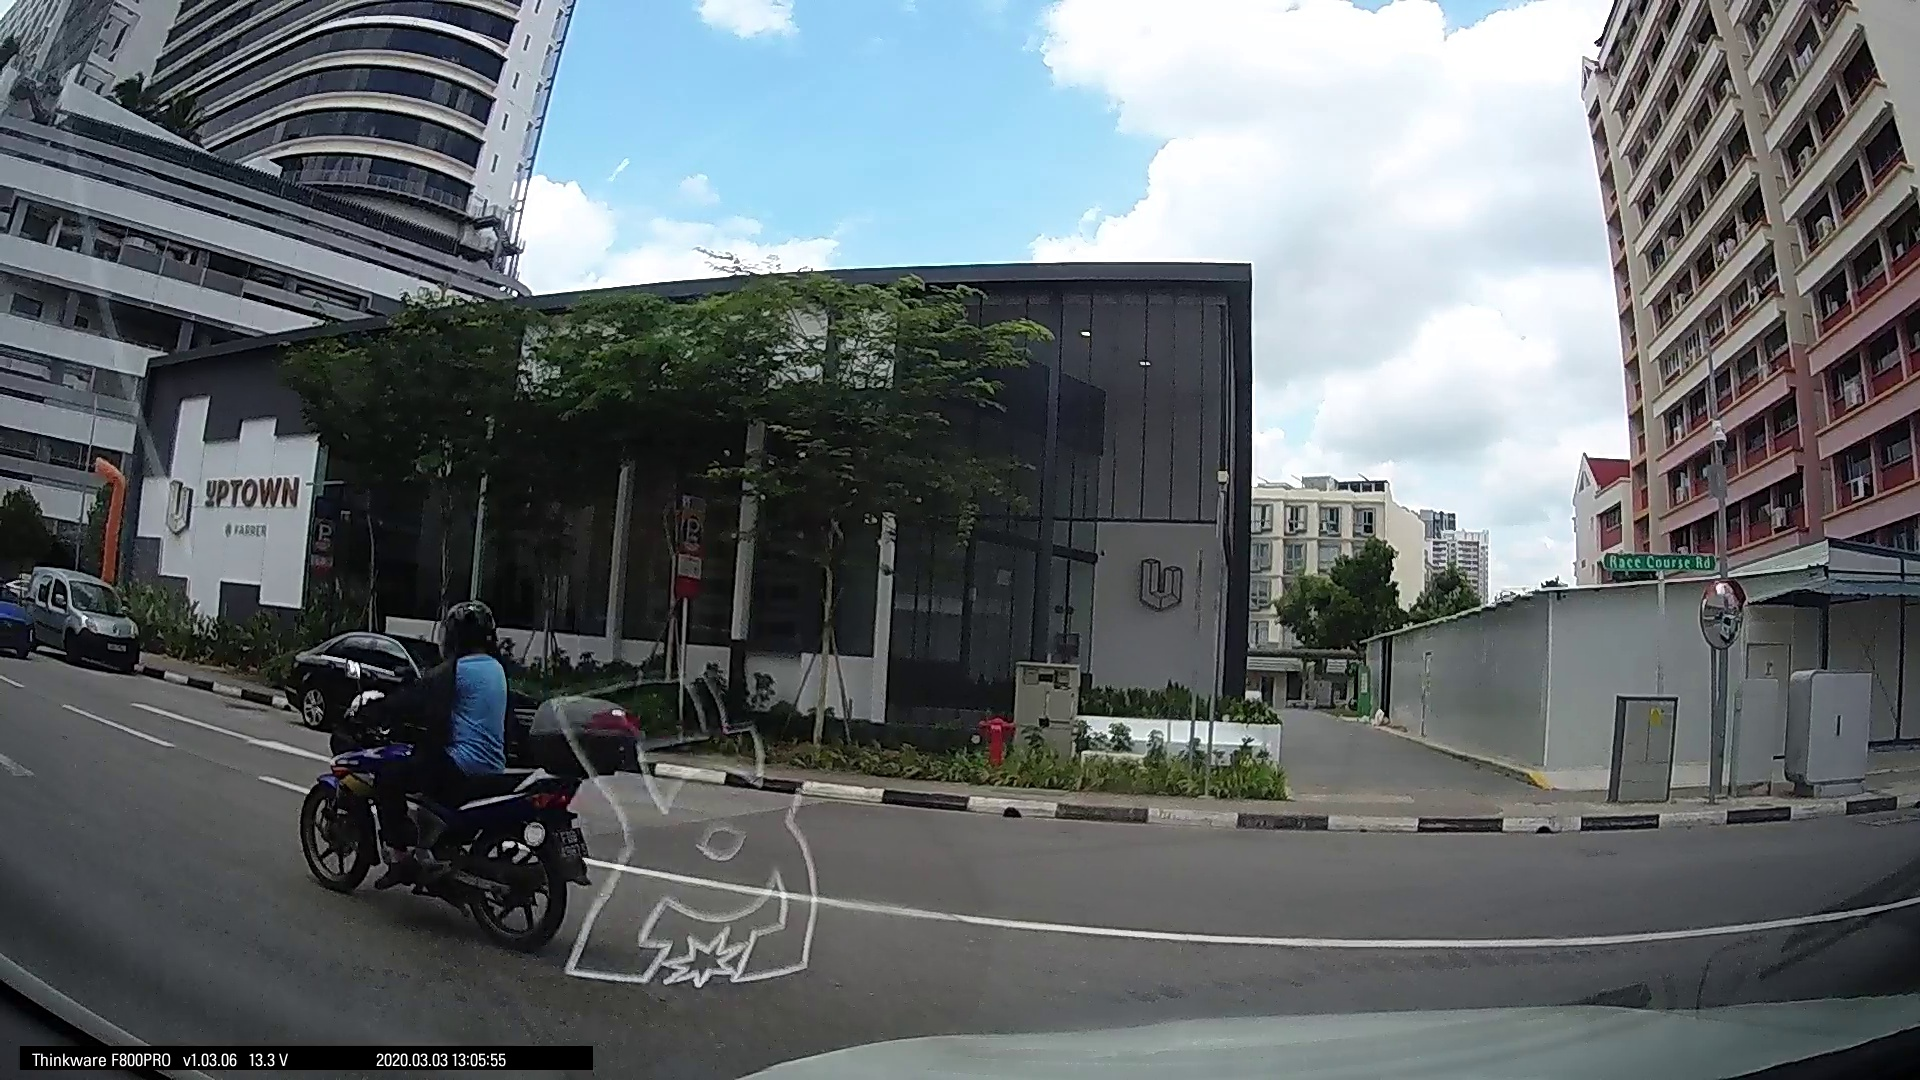Light Vehicle: (7, 562, 142, 669), (280, 626, 423, 723)
Motorcycle: (294, 618, 620, 949)
